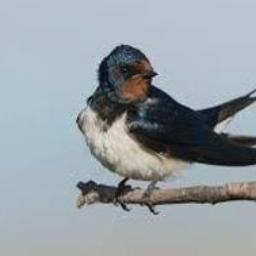Swallow: (79, 45, 256, 209)
